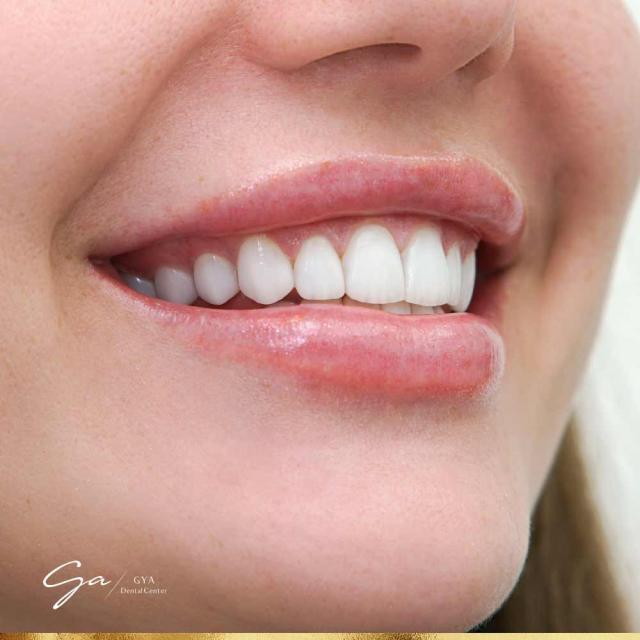tooth: (396, 218, 452, 304), (349, 227, 406, 300), (240, 240, 291, 303), (286, 238, 338, 298), (182, 256, 230, 308), (458, 264, 486, 315), (450, 244, 464, 306), (157, 267, 175, 300), (393, 306, 407, 318), (418, 310, 437, 315)
